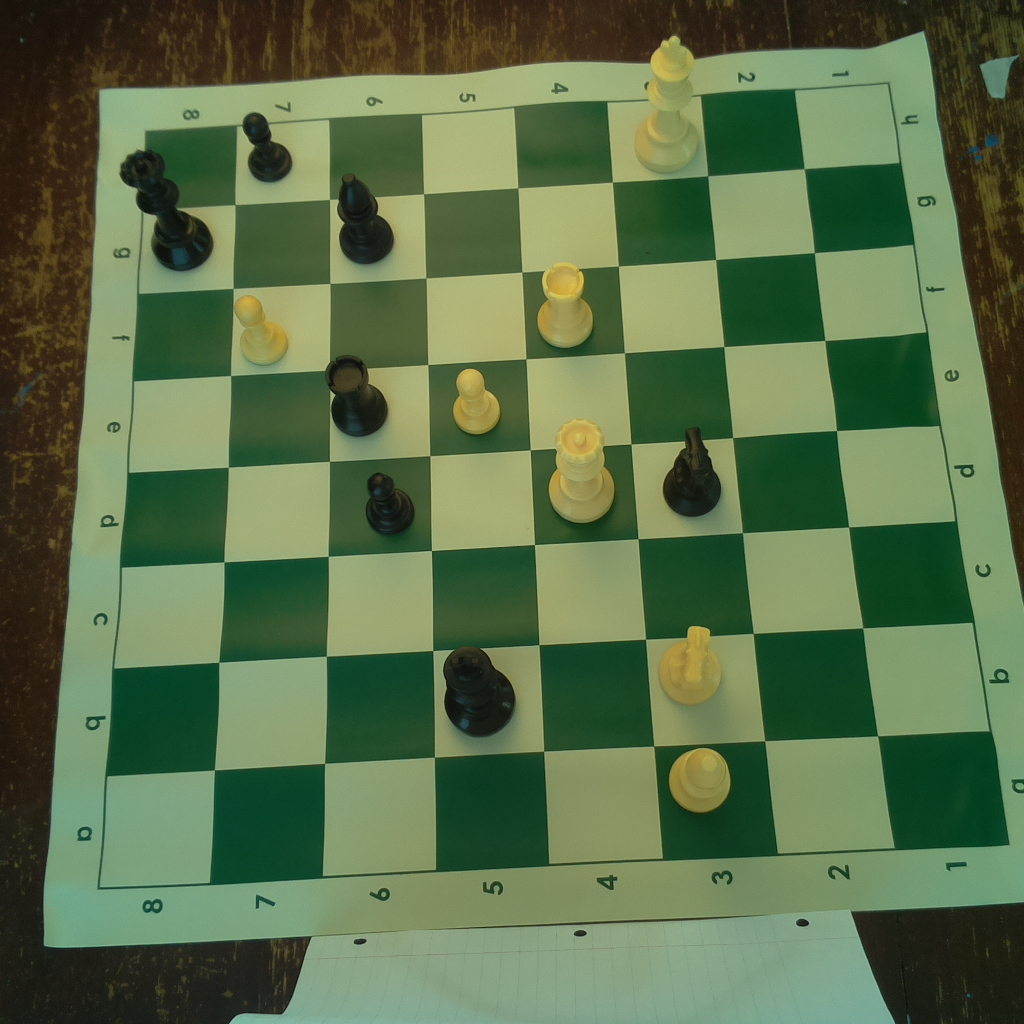black_bishop: (332, 171, 399, 267)
black_king: (437, 640, 521, 739)
black_knight: (657, 423, 725, 518)
black_pawn: (238, 106, 299, 182), (360, 467, 418, 534)
black_queen: (118, 145, 215, 274)
black_rook: (319, 347, 390, 439)
file_a: (96, 731, 1011, 887)
file_b: (105, 621, 989, 777)
file_c: (114, 522, 973, 671)
file_d: (121, 425, 958, 569)
file_e: (129, 334, 942, 474)
file_f: (134, 244, 927, 384)
file_g: (140, 164, 915, 293)
file_h: (141, 83, 902, 212)
outline: (98, 83, 1014, 887)
rank_1: (797, 80, 1010, 851)
rank_2: (703, 88, 897, 856)
rank_3: (608, 95, 777, 860)
rank_4: (515, 99, 664, 866)
rank_5: (419, 106, 551, 875)
rank_6: (318, 113, 438, 874)
rank_7: (212, 117, 329, 888)
rank_8: (99, 125, 241, 887)
white_bishop: (663, 744, 736, 817)
white_king: (628, 32, 705, 175)
white_knight: (653, 618, 728, 708)
white_pawn: (229, 290, 296, 367), (445, 362, 503, 438)
white_queen: (547, 415, 620, 523)
white_rook: (532, 258, 597, 354)
